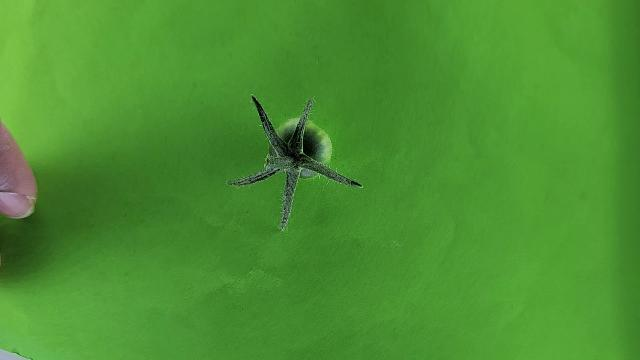Fruit Maturation: (274, 117, 334, 179)
